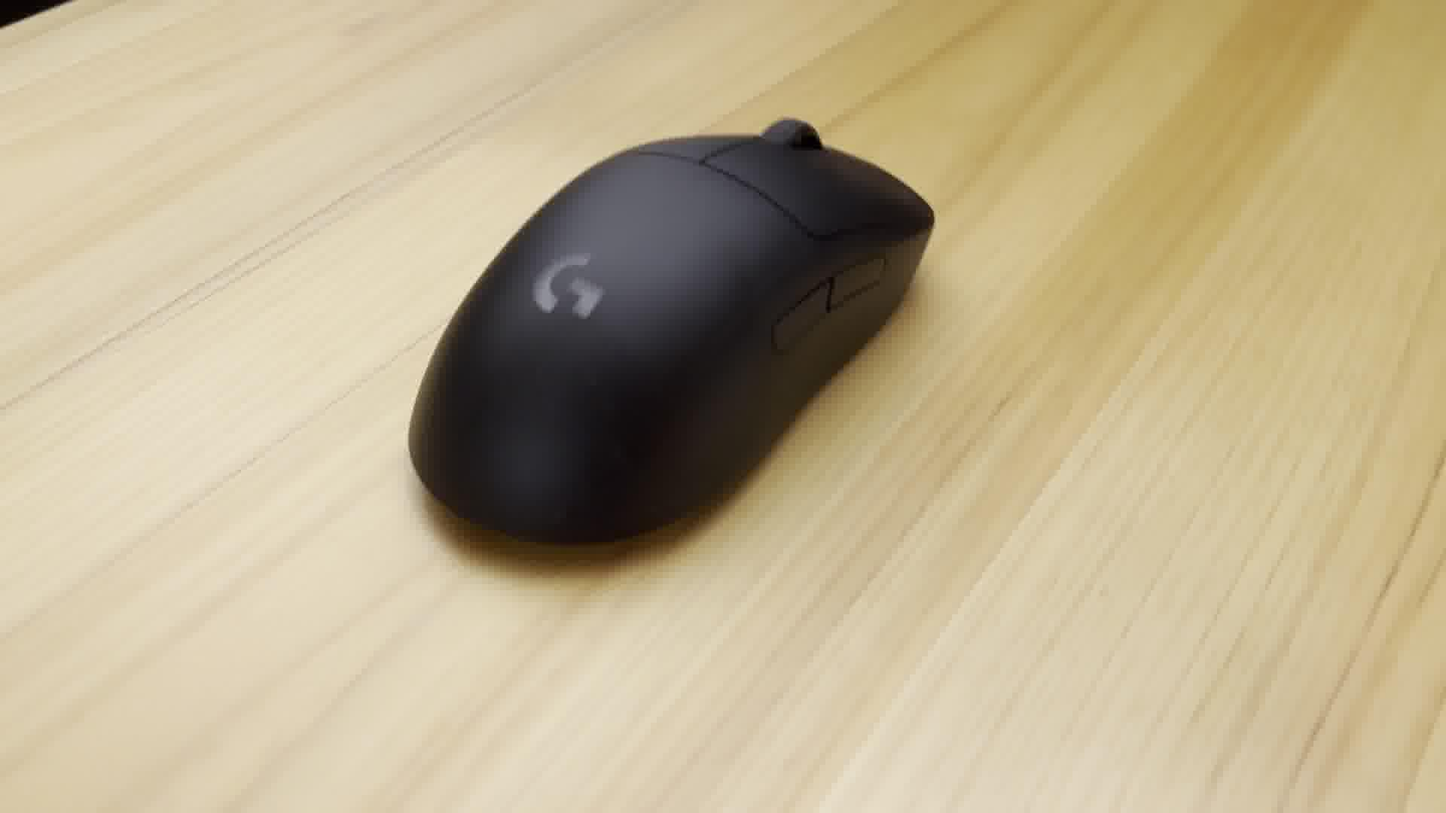logicool: (398, 110, 944, 572)
